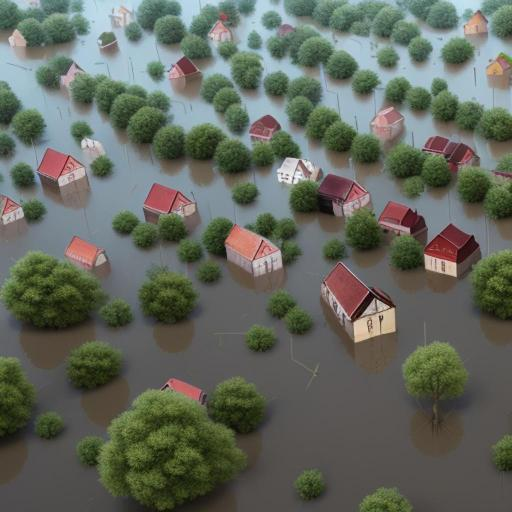flood: (0, 263, 512, 512), (0, 0, 344, 320), (235, 0, 512, 168), (241, 87, 512, 256), (401, 30, 512, 111), (344, 232, 465, 301), (398, 104, 512, 169), (84, 0, 142, 19), (177, 0, 222, 22), (14, 0, 32, 7), (272, 0, 284, 5), (385, 0, 396, 3)
house: (322, 259, 400, 345), (224, 223, 284, 285), (425, 220, 483, 283), (140, 177, 196, 229), (62, 229, 111, 283), (317, 171, 373, 218), (37, 146, 87, 198), (377, 198, 425, 242), (156, 376, 210, 407), (278, 156, 320, 190), (432, 138, 476, 170), (371, 103, 405, 143), (0, 188, 24, 236), (250, 113, 282, 145), (56, 57, 84, 89), (207, 14, 233, 46), (168, 56, 199, 82), (464, 12, 488, 40), (485, 56, 511, 78)
